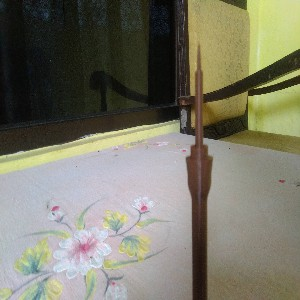solder: (185, 42, 214, 300)
